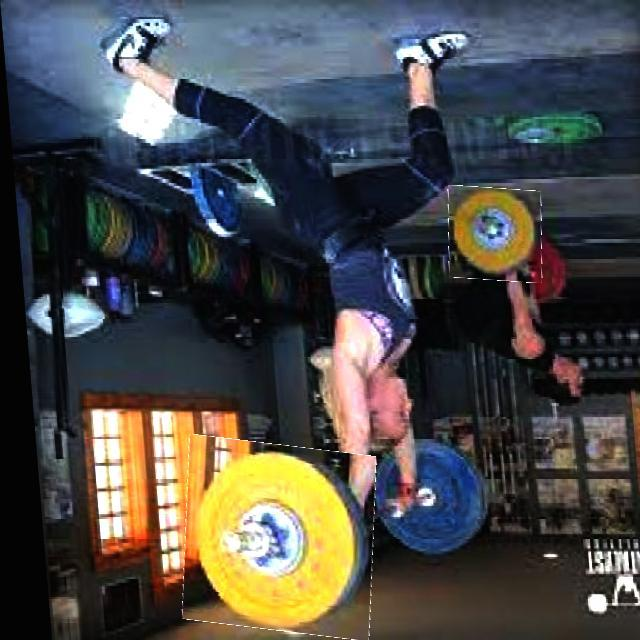barbell: (166, 440, 375, 637), (441, 188, 543, 282)
